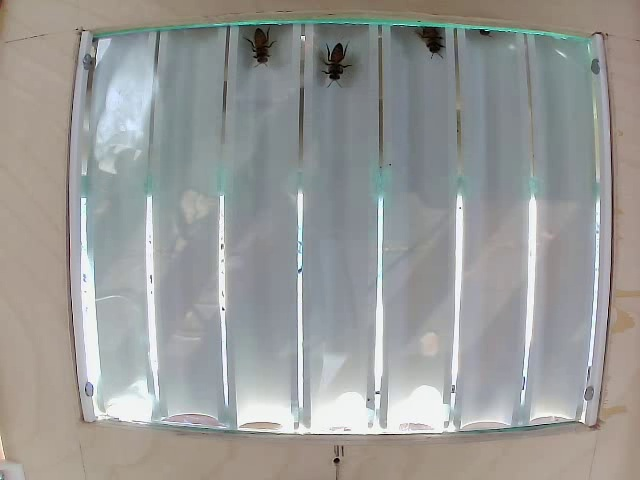bee: (403, 19, 430, 58), (244, 29, 269, 64), (320, 51, 346, 82)
